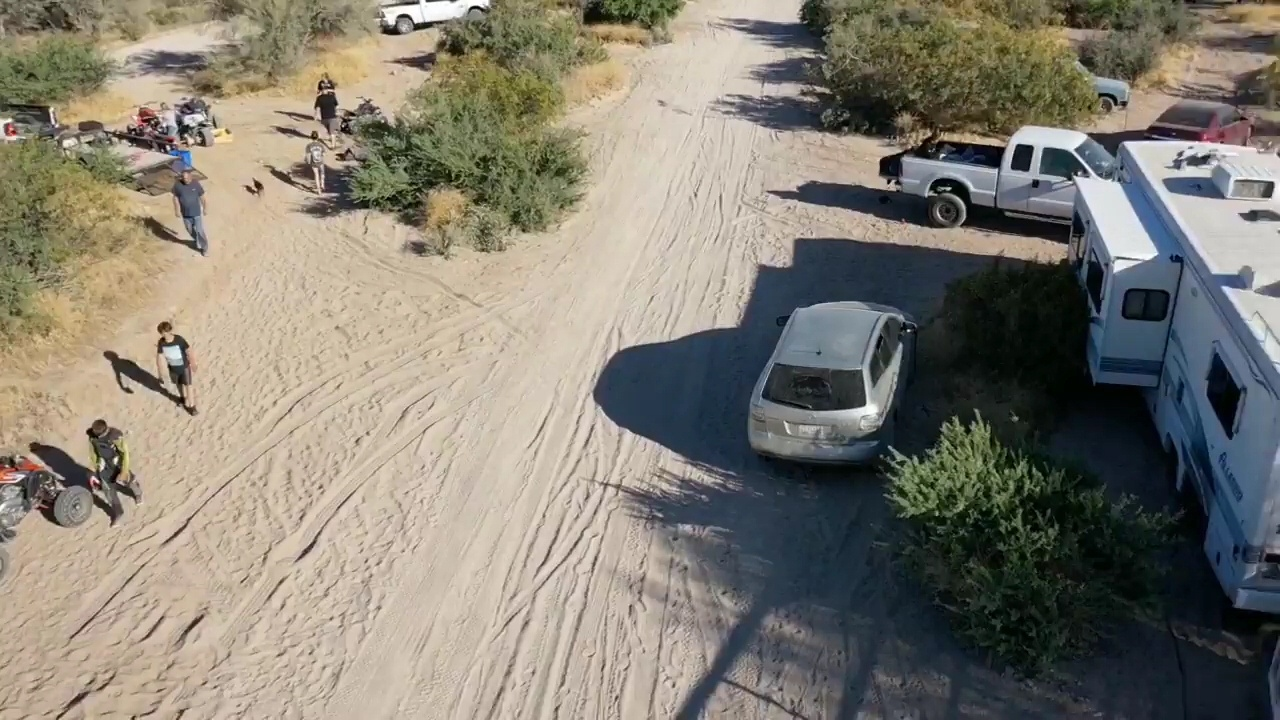araba: (742, 291, 924, 460)
insan: (89, 405, 139, 524), (154, 318, 202, 418), (172, 168, 211, 255), (305, 129, 330, 198), (311, 83, 335, 131)
kamyonet: (875, 117, 1140, 223)
